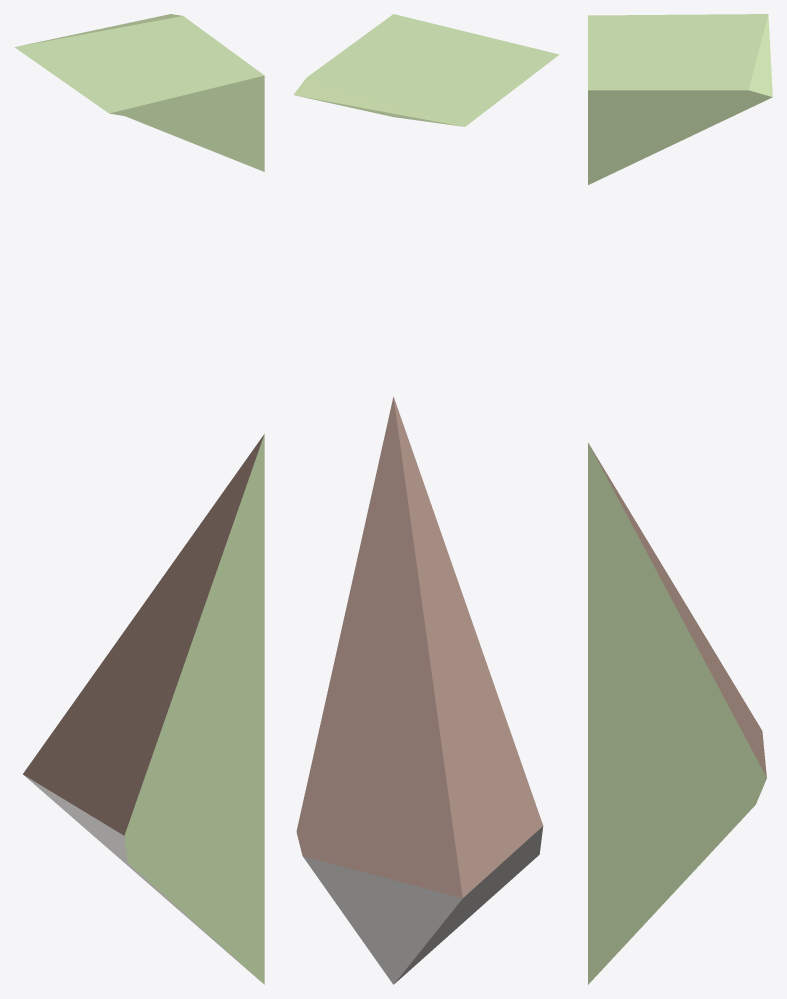
Rendered from chunk_-2_1.glb.
3 views of the same model, side by side, from view 1: azimuth 30°, elevation 25°; view 2: azimuth 150°, elevation 25°; view 3: azimuth 270°, elevation 25° (orthographic). The views are drawn at different scales.
Visible parts, largest first — view 1: chunk_-2_1_0; view 2: chunk_-2_1_0; view 3: chunk_-2_1_0.
Boxes of the visible parts, bbox=[...] form: chunk_-2_1_0: bbox=[14, 14, 264, 984]; chunk_-2_1_0: bbox=[293, 14, 559, 984]; chunk_-2_1_0: bbox=[588, 14, 772, 984].
Bounding box in the file's own units: 0.7779 × 4.26 × 0.797.
